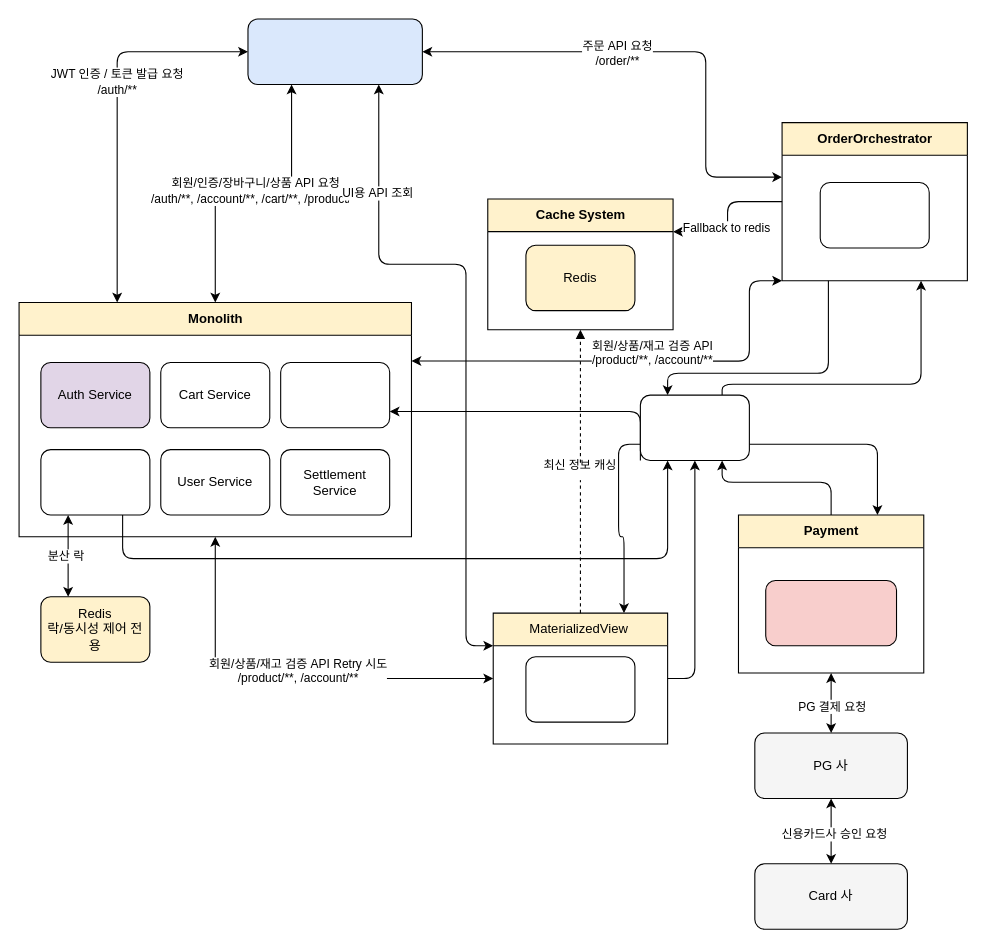
Some shapes in this 986 by 948 pixel diagram are drawn without their labels. The shapes that lost their labels are listed below. From the top down, each one's centre as x and y in pixels, then its label:
At [334,51]: "API Gateway".
At [874,214]: "Order Service".
At [335,394]: "Notification Service".
At [694,427]: "Kafka Cluster".
At [95,482]: "Product Service".
At [831,612]: "Payment Service".
At [580,689]: "Worker".
